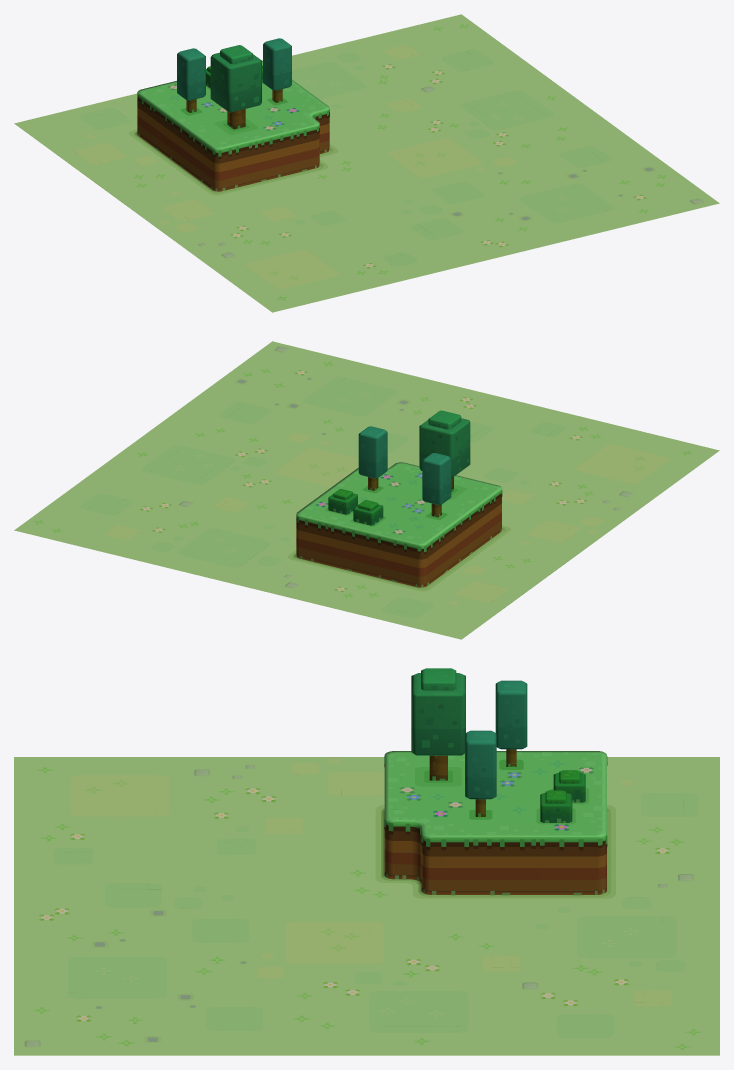
File: C_grass1_04.fbx
3 renders of one model, top to bottom at view 1: azimuth 30°, elevation 25°; view 2: azimuth 150°, elevation 25°; view 3: azimuth 270°, elevation 25°, orthographic. The views are drawn at different scales.
Visible parts, largest first — view 1: C_grass1_04.002; view 2: C_grass1_04.002; view 3: C_grass1_04.002.
Part boxes in pixels (x1,y1,x2,y2): C_grass1_04.002: (14, 14, 719, 312); C_grass1_04.002: (14, 341, 719, 639); C_grass1_04.002: (14, 668, 719, 1055).
Size of the model in its own units: 50 by 12.68 by 50.
